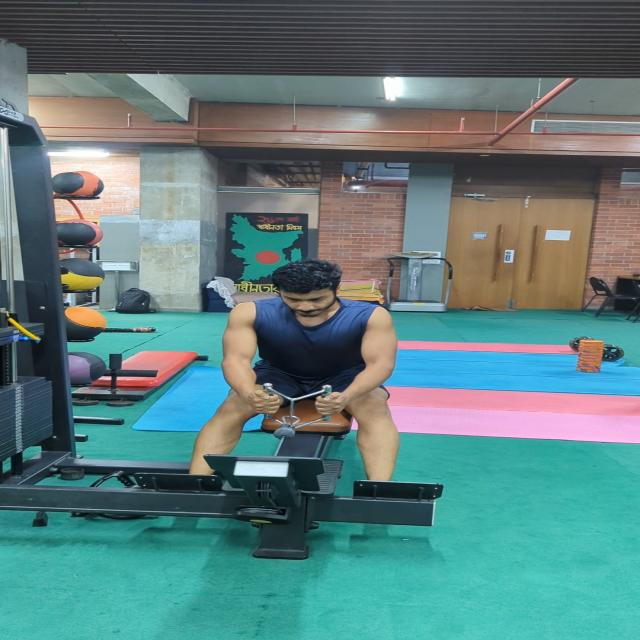Normal_RowingMachineExercise: (185, 261, 402, 486)
